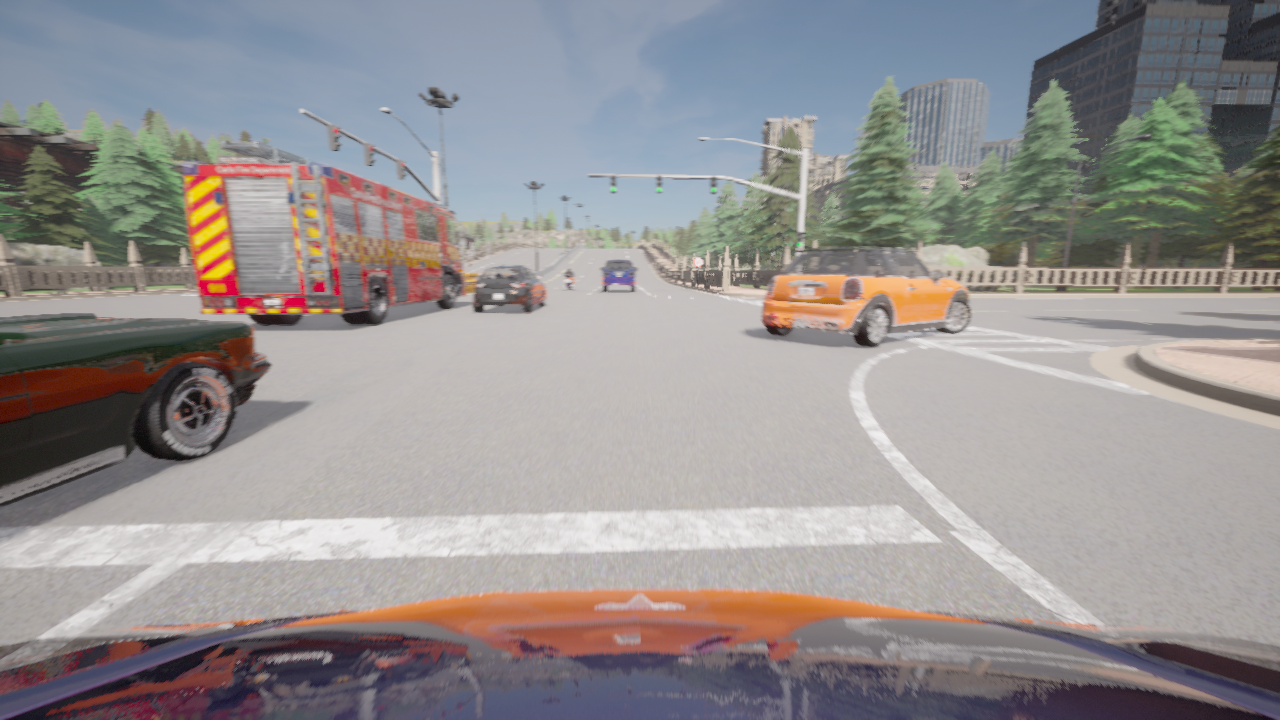cyclist: (0, 588, 1279, 719), (182, 140, 465, 324), (0, 314, 270, 506), (762, 240, 971, 347), (473, 265, 546, 312), (601, 260, 636, 291), (564, 273, 575, 290)
pedestrian: (57, 274, 66, 293)
